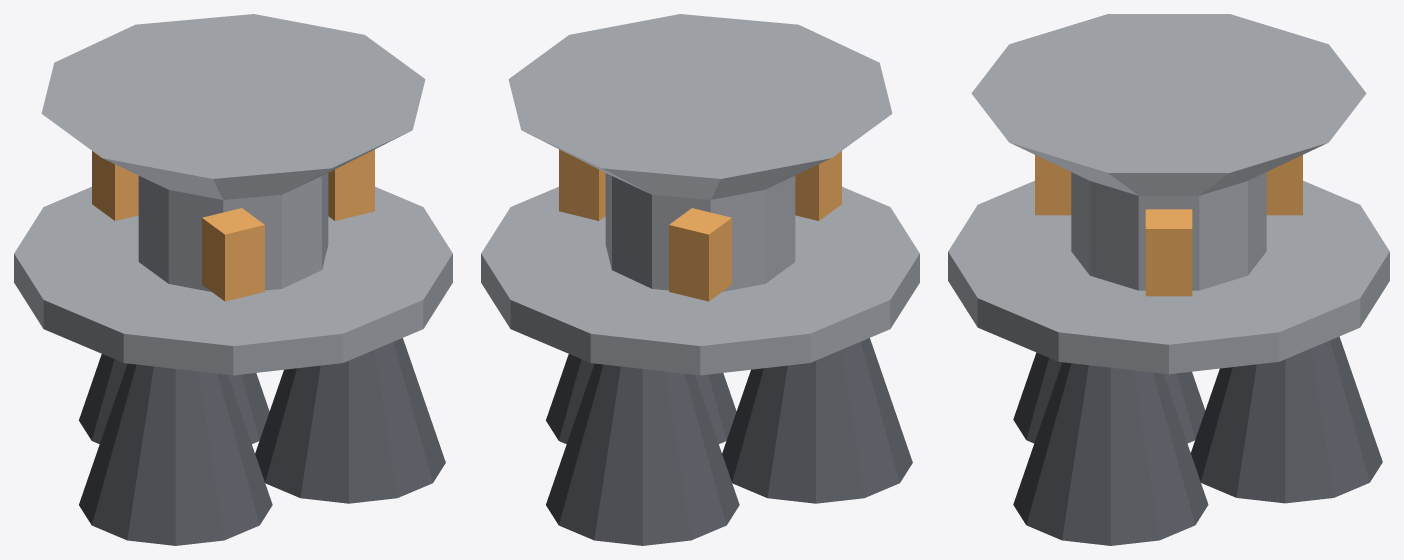
Rendered from engine_cluster.glb.
3 views of the same model, side by side, from view 1: azimuth 30°, elevation 25°; view 2: azimuth 150°, elevation 25°; view 3: azimuth 270°, elevation 25° (orthographic).
Parts seen in each view (by area): view 1: engine_cluster; view 2: engine_cluster; view 3: engine_cluster.
Boxes of the visible parts, x1,y1,x2,y2 form: engine_cluster: (14, 14, 452, 545); engine_cluster: (481, 14, 919, 545); engine_cluster: (948, 14, 1389, 545).
Size of the model in its own units: 1.9 by 1.75 by 1.9.
